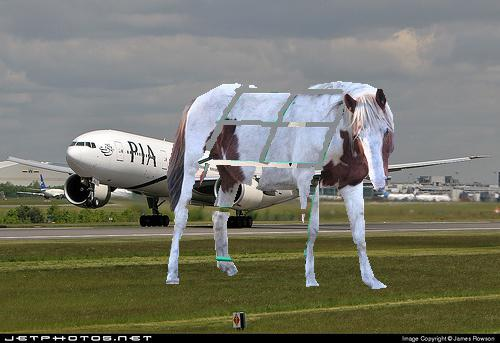tampered: (167, 82, 394, 289)
